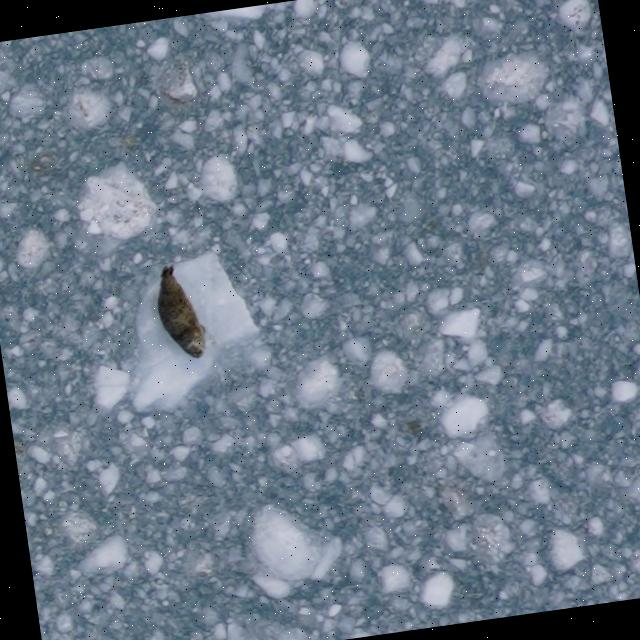seal: (148, 259, 213, 366)
